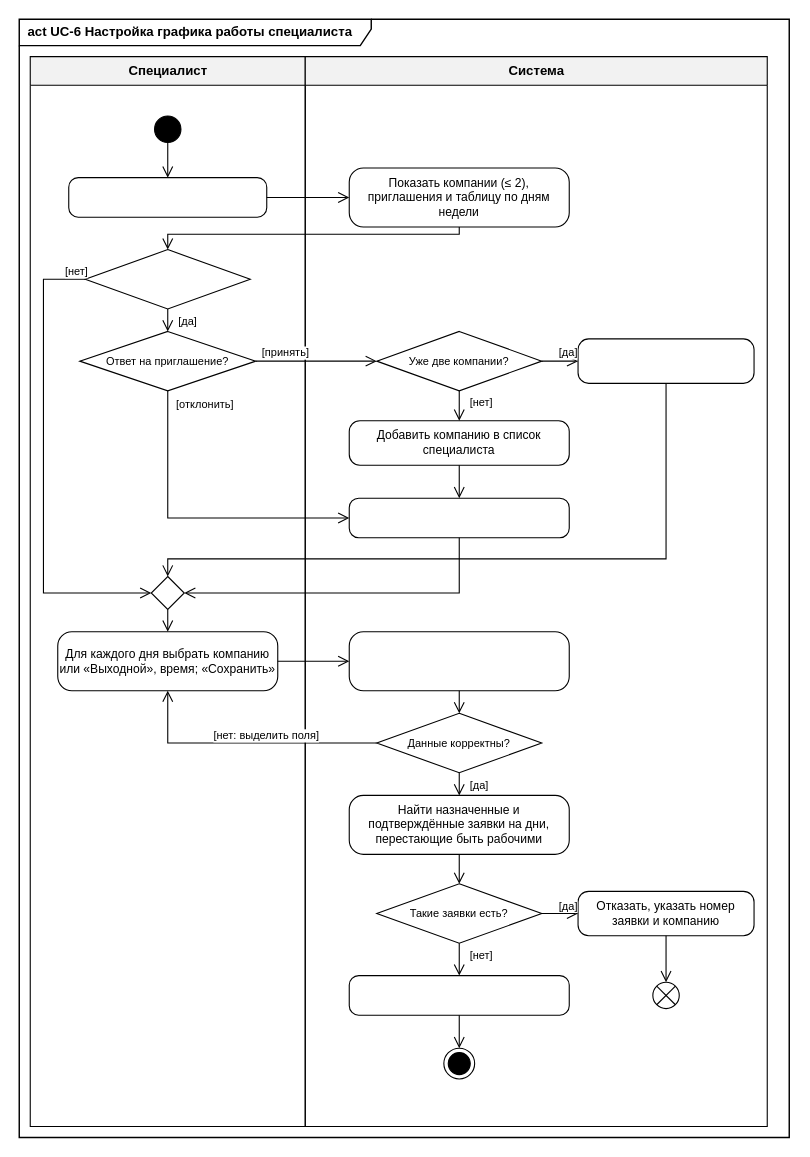
The diagram is 810 pixels wide and 1157 high, and some of its shapes have lost their labels. The shapes that lost their labels are listed below. From the top down, each one's box as (x1, y1, x2, y2) in pixels, then its label:
(68, 177, 267, 217): Открыть раздел «График»
(84, 248, 250, 309): Есть приглашение?
(577, 338, 754, 383): Сообщить: третью компанию добавить нельзя
(348, 497, 569, 538): Закрыть приглашение
(348, 631, 569, 691): Проверить: день за одной компанией, начало раньше окончания
(348, 974, 569, 1015): Сохранить график
